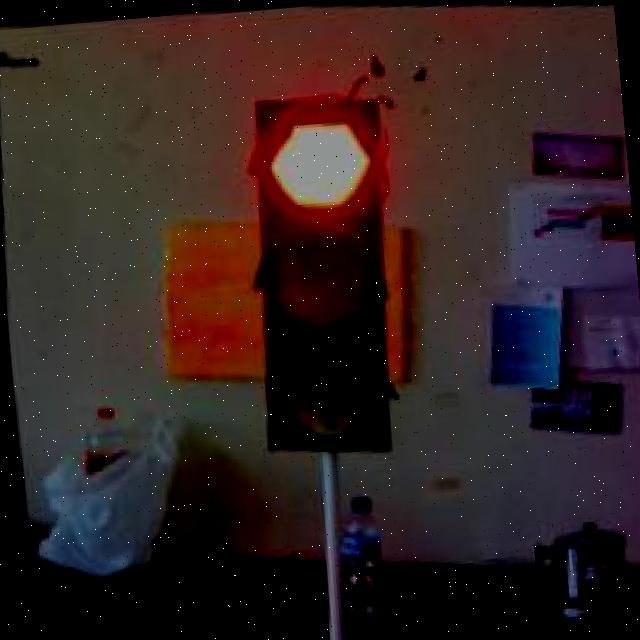red_light: (230, 90, 416, 457)
